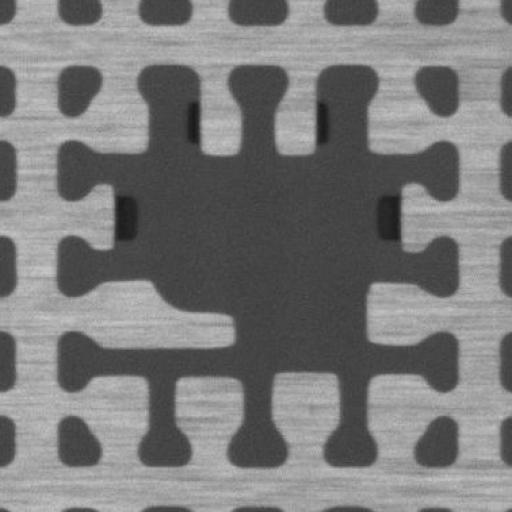NO_DIE: (54, 64, 462, 468)
